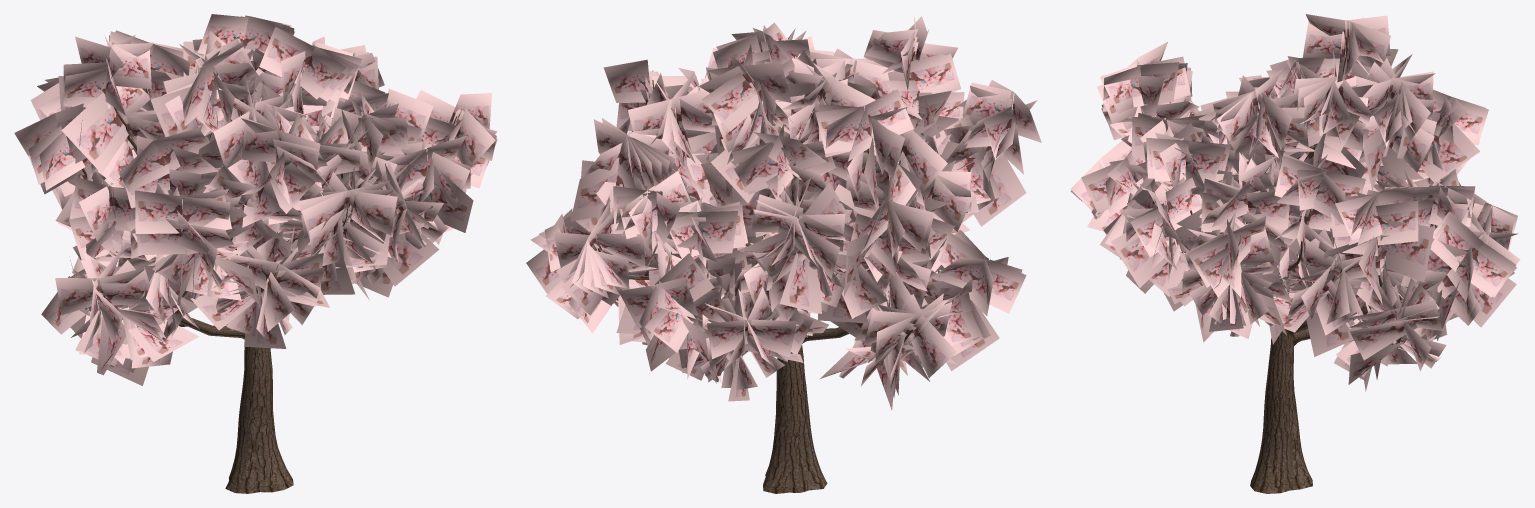
The model's file is Sakura.fbx.
3 views of the same model, side by side, from view 1: azimuth 30°, elevation 25°; view 2: azimuth 150°, elevation 25°; view 3: azimuth 270°, elevation 25° (orthographic). The views are drawn at different scales.
Parts seen in each view (by area): view 1: Sakura; view 2: Sakura; view 3: Sakura.
Part boxes in pixels (box(x1,y1,x2,y2)): Sakura: box(14, 14, 497, 493); Sakura: box(526, 14, 1041, 493); Sakura: box(1070, 14, 1520, 493).
Bounding box in the file's own units: 40.36 × 41.72 × 40.16.
